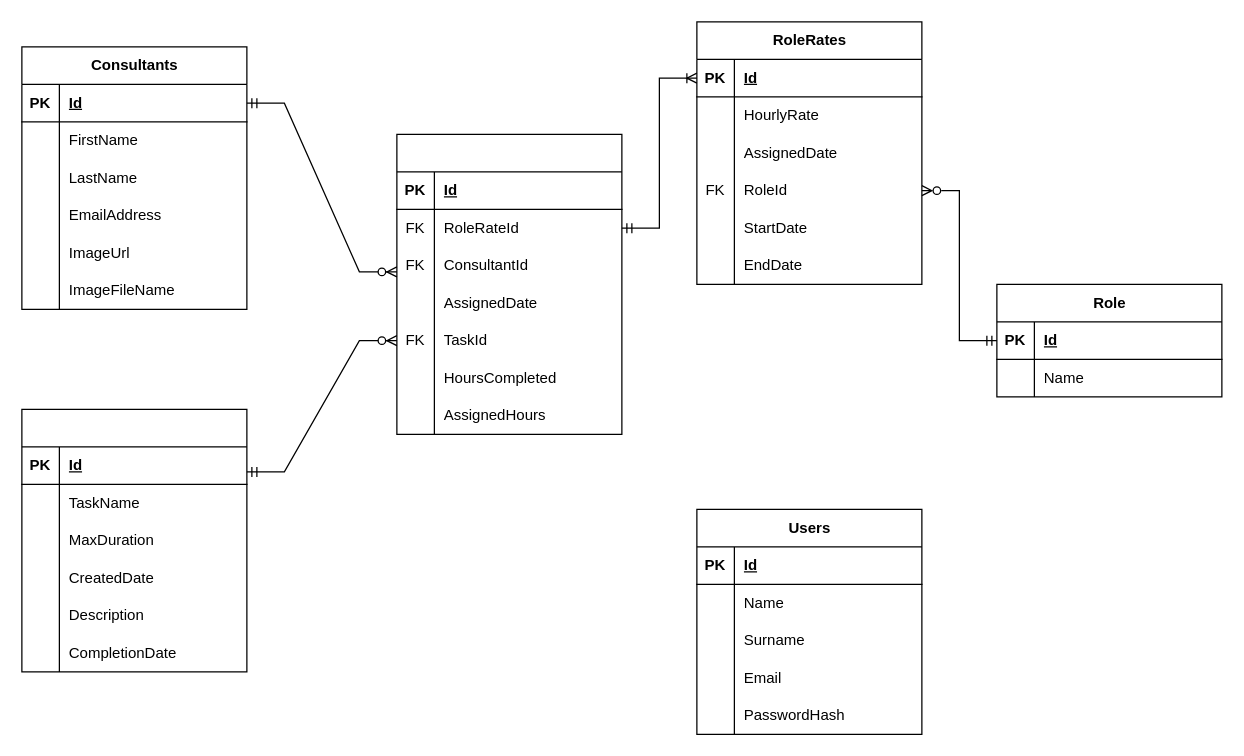
The diagram is 1244 pixels wide and 756 high, and some of its shapes have lost their labels. The shapes that lost their labels are listed below. From the top down, each one's box as (x1, y1, x2, y2) in pixels, then its label:
(396, 133, 622, 434): Consultant Task
(21, 408, 247, 672): Tasks
